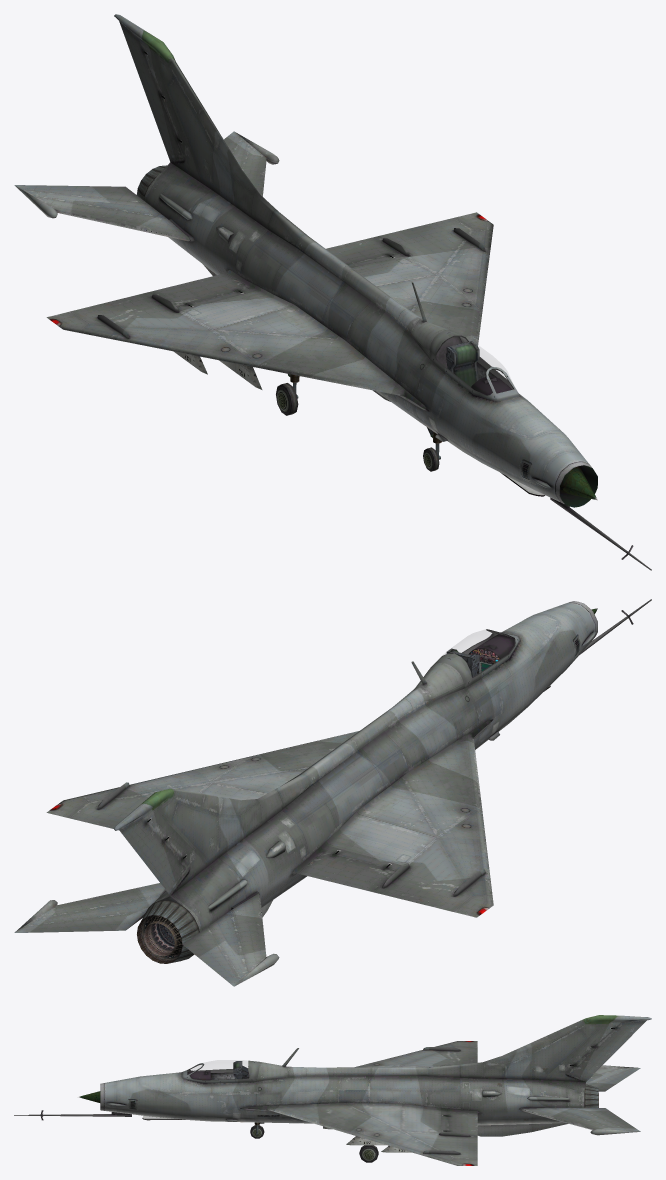
The model's file is Mig21.FBX.
3 renders of one model, top to bottom at view 1: azimuth 30°, elevation 25°; view 2: azimuth 150°, elevation 25°; view 3: azimuth 270°, elevation 25°, orthographic. The views are drawn at different scales.
Parts seen in each view (by area): view 1: LOD0, ElevatorR01, RudderL01, FlapR01, ElevatorL01, Canopy01, FlapL01, studio.a10.mesh_08, Eject_Seat, AileronR01, AileronL01; view 2: LOD0, ElevatorR01, ElevatorL01, RudderL01, FlapR01, EngineL01, AileronR01, Canopy01, AileronL01; view 3: LOD0, ElevatorL01, RudderL01, ElevatorR01, Canopy01, FlapL01, studio.a10.mesh_08, AileronL01, Glass_Canopy01, AileronR01.
Boxes of the visible parts, bbox=[...] form: LOD0: bbox=[46, 14, 651, 570]; ElevatorR01: bbox=[14, 185, 189, 241]; RudderL01: bbox=[119, 21, 185, 162]; FlapR01: bbox=[148, 272, 252, 307]; ElevatorL01: bbox=[224, 131, 279, 196]; Canopy01: bbox=[429, 330, 519, 401]; FlapL01: bbox=[326, 237, 399, 264]; studio.a10.mesh_08: bbox=[276, 374, 441, 471]; Eject_Seat: bbox=[446, 341, 479, 390]; AileronR01: bbox=[72, 293, 164, 318]; AileronL01: bbox=[379, 218, 462, 247]; LOD0: bbox=[46, 599, 651, 963]; ElevatorR01: bbox=[182, 894, 279, 986]; ElevatorL01: bbox=[14, 883, 164, 932]; RudderL01: bbox=[119, 816, 190, 895]; FlapR01: bbox=[296, 850, 396, 892]; EngineL01: bbox=[137, 915, 182, 963]; AileronR01: bbox=[379, 876, 462, 911]; Canopy01: bbox=[434, 629, 520, 687]; AileronL01: bbox=[72, 809, 128, 830]; LOD0: bbox=[14, 1015, 651, 1165]; ElevatorL01: bbox=[521, 1107, 640, 1135]; RudderL01: bbox=[565, 1020, 646, 1081]; ElevatorR01: bbox=[586, 1065, 640, 1091]; Canopy01: bbox=[181, 1060, 259, 1083]; FlapL01: bbox=[447, 1110, 477, 1136]; studio.a10.mesh_08: bbox=[250, 1122, 378, 1162]; AileronL01: bbox=[452, 1136, 477, 1158]; Glass_Canopy01: bbox=[191, 1060, 247, 1070]; AileronR01: bbox=[454, 1047, 477, 1064].
Size of the model in its own units: 11.21 by 5.33 by 24.21.
Materials: 4 (3 with a texture image).
